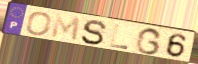6: (165, 33, 190, 60)
G: (134, 27, 164, 56)
L: (109, 23, 129, 51)
M: (50, 14, 82, 43)
O: (25, 11, 53, 36)
S: (80, 19, 109, 47)
